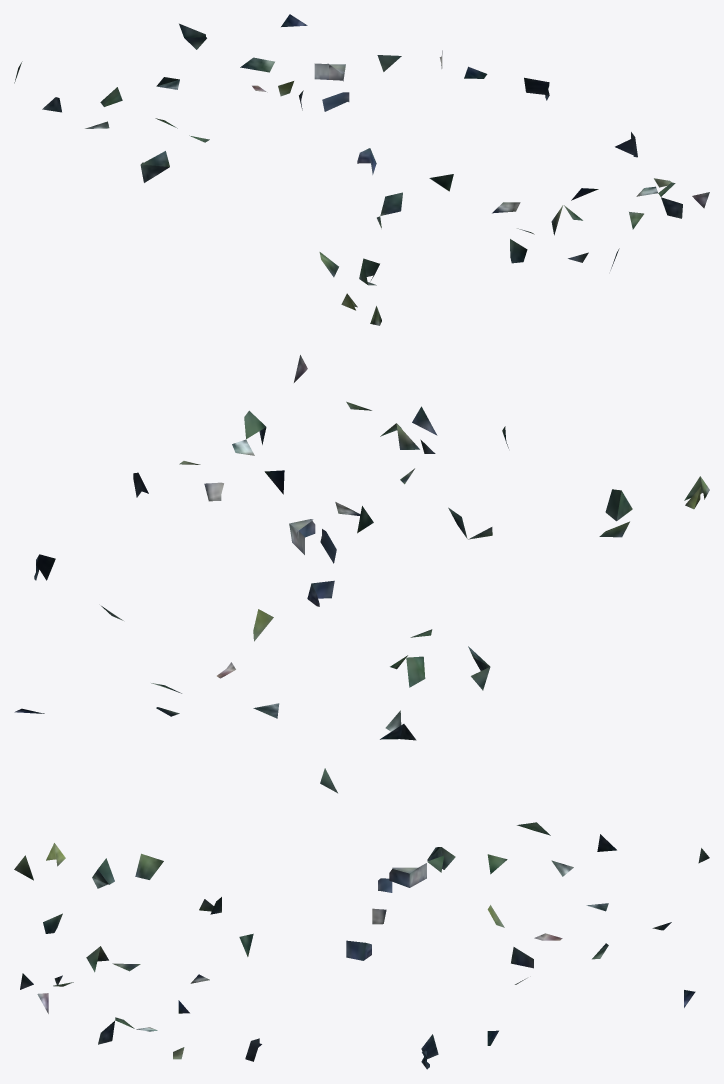
3 renders of one model, top to bottom at view 1: azimuth 30°, elevation 25°; view 2: azimuth 150°, elevation 25°; view 3: azimuth 270°, elevation 25°, orthographic. The views are drawn at different scales.
Parts seen in each view (by area): view 1: 304362727043706346_1; view 2: 304362727043706346_1; view 3: 304362727043706346_1.
Boxes of the visible parts, x1,y1,x2,y2 form: 304362727043706346_1: (14,14,709,325); 304362727043706346_1: (14,355,709,793); 304362727043706346_1: (14,822,709,1069).
Bounding box in the file's own units: 102 × 23.41 × 149.
1 material, 1 textured.
